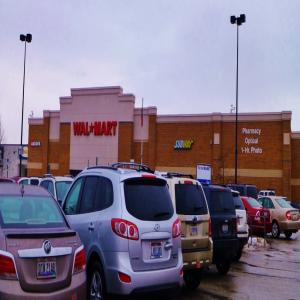Vehicle-registration-plate: (37, 256, 58, 279), (151, 244, 164, 260), (191, 223, 198, 237)
